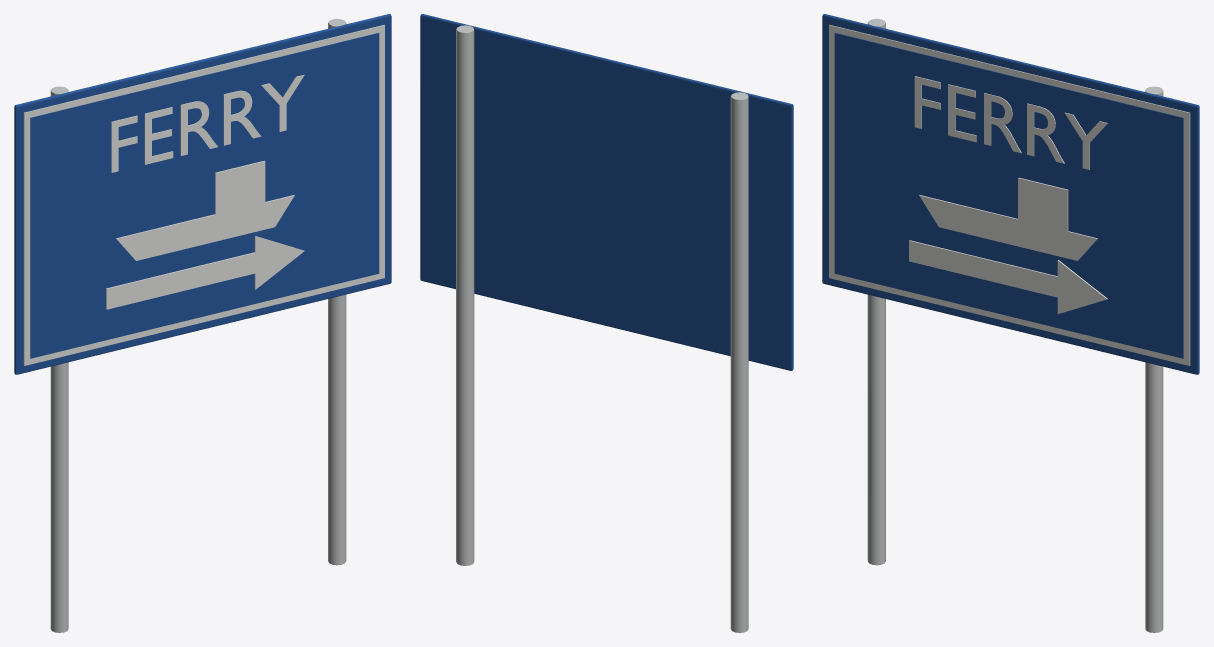
File: ferry_sign.glb
3 renders of one model, left to right at view 1: azimuth 30°, elevation 25°; view 2: azimuth 150°, elevation 25°; view 3: azimuth 330°, elevation 25°, orthographic.
Visible parts, largest first — view 1: SM_ferry_sign; view 2: SM_ferry_sign; view 3: SM_ferry_sign.
Boxes of the visible parts, box(x1,y1,x2,y2) form: SM_ferry_sign: box(14, 14, 391, 632); SM_ferry_sign: box(420, 14, 793, 632); SM_ferry_sign: box(822, 14, 1199, 632).
Size of the model in its own units: 1.9 by 2.6 by 0.104.
